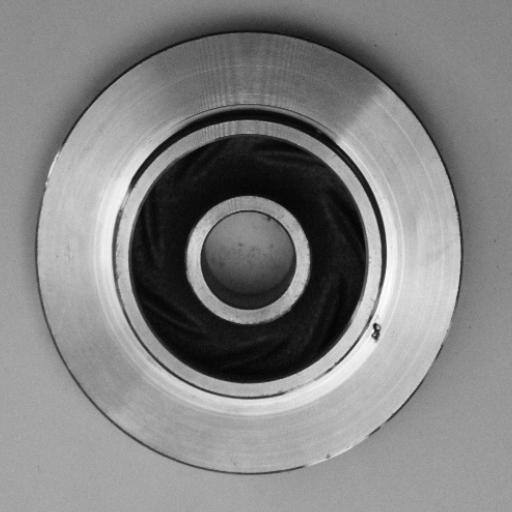crack: (38, 140, 77, 211), (363, 310, 390, 352)
scratch: (292, 425, 378, 484)
unpolished_casting: (32, 28, 465, 479)
